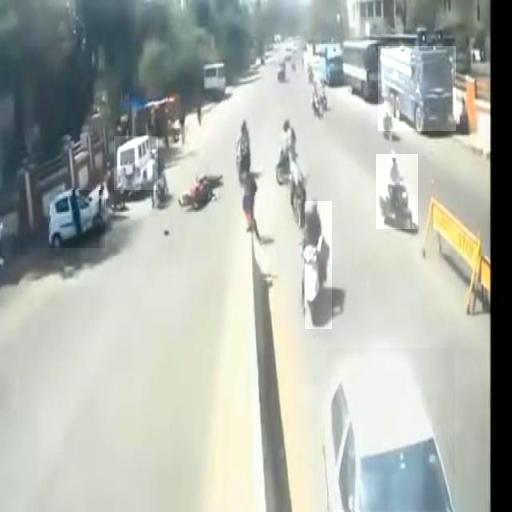小汽车: (328, 348, 456, 510), (378, 46, 456, 131), (50, 190, 106, 248), (114, 136, 158, 190)
自行车: (305, 201, 332, 329), (376, 154, 418, 229)
